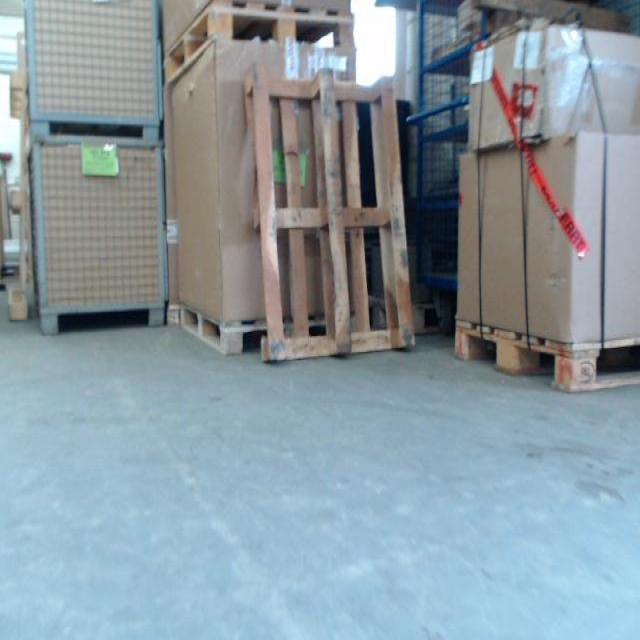pallet: (239, 60, 418, 367), (159, 0, 357, 89), (449, 320, 640, 397), (178, 296, 353, 359), (365, 291, 444, 340)
stillage: (31, 136, 164, 338), (22, 37, 162, 142)
